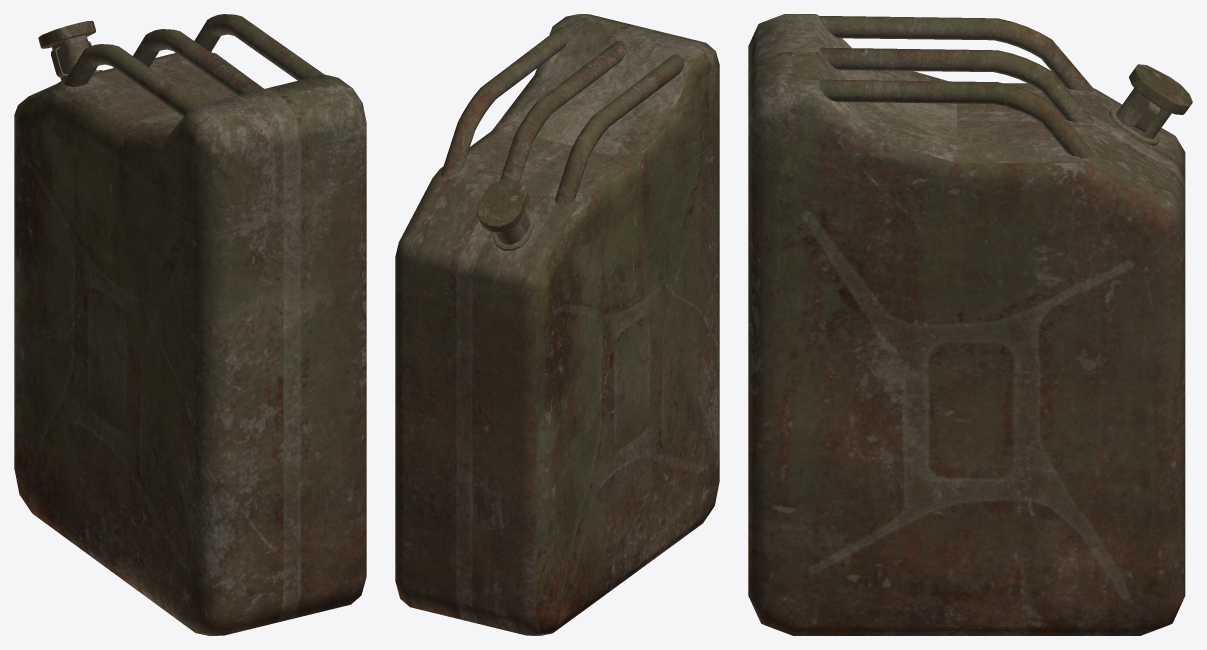
Rendered from JerryCan.fbx.
The picture shows the model from 3 angles, left to right: view 1: azimuth 30°, elevation 25°; view 2: azimuth 150°, elevation 25°; view 3: azimuth 270°, elevation 25°; orthographic projection. The views are drawn at different scales.
Visible parts, largest first — view 1: pasted__pasted__pPlane2; view 2: pasted__pasted__pPlane2; view 3: pasted__pasted__pPlane2.
Boxes of the visible parts, bbox=[...] form: pasted__pasted__pPlane2: bbox=[14, 14, 366, 635]; pasted__pasted__pPlane2: bbox=[395, 14, 719, 635]; pasted__pasted__pPlane2: bbox=[748, 14, 1192, 635].
Bounding box in the file's own units: 80 × 243 × 177.
1 material, 1 textured.
